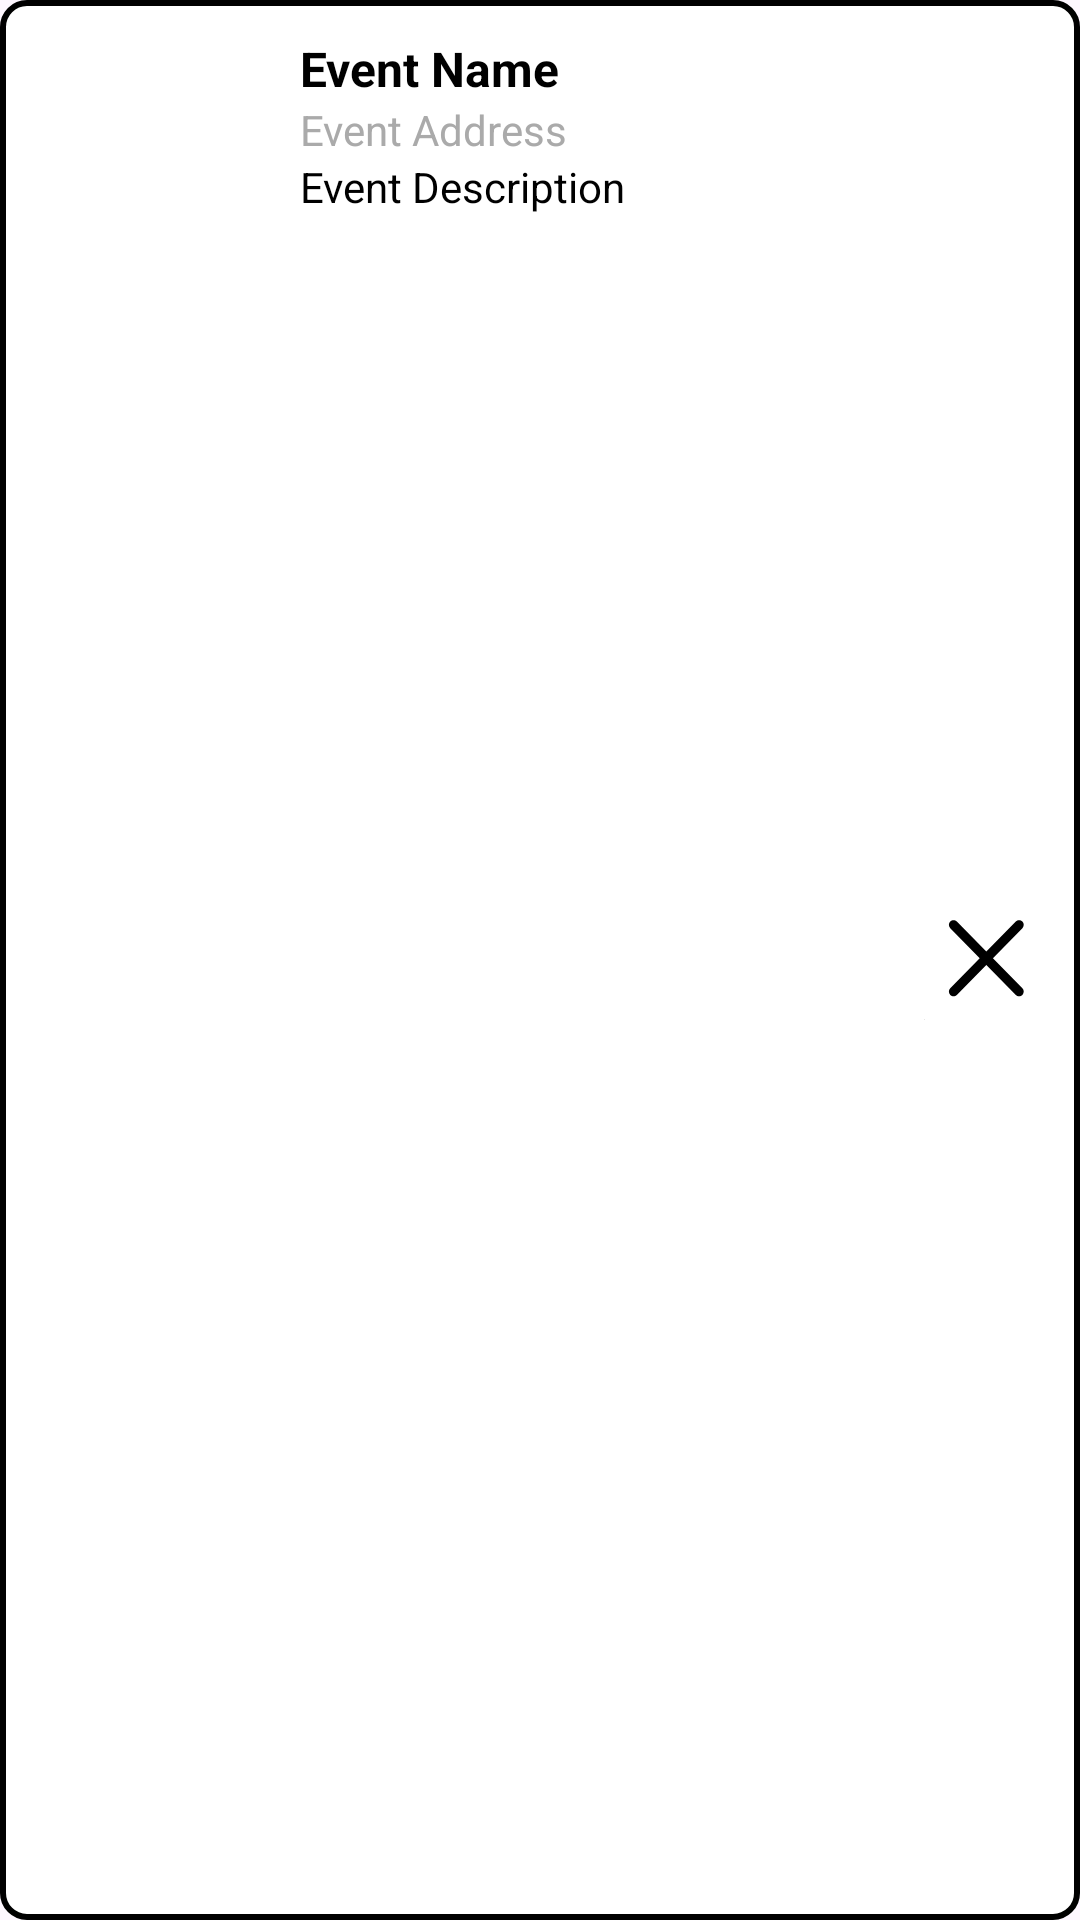

Where icons sit on this 1080*1920 app screen, as [x1, y1, x2, y2]:
Cancel: [949, 920, 1024, 997]
